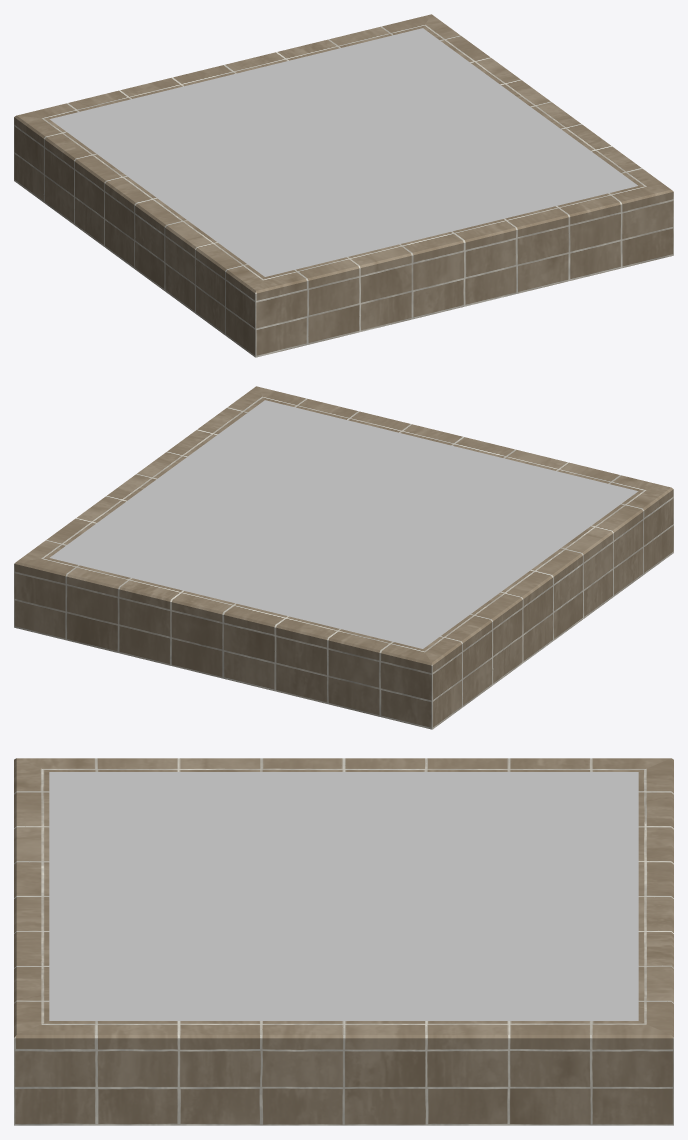
Rendered from PlatformLargeOscY.fbx.
The picture shows the model from 3 angles, top to bottom: view 1: azimuth 30°, elevation 25°; view 2: azimuth 150°, elevation 25°; view 3: azimuth 270°, elevation 25°; orthographic projection. The views are drawn at different scales.
Visible parts, largest first — view 1: PlatformLargeOscY; view 2: PlatformLargeOscY; view 3: PlatformLargeOscY.
Boxes of the visible parts, x1,y1,x2,y2 form: PlatformLargeOscY: (14,14,673,357); PlatformLargeOscY: (14,386,673,729); PlatformLargeOscY: (14,758,673,1125).
Bounding box in the file's own units: 500 × 75 × 500.
